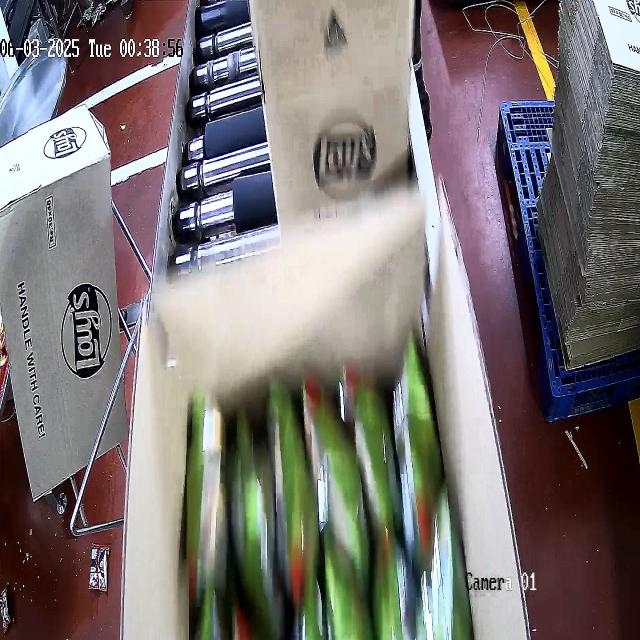YOGURT_HERB: (181, 379, 469, 640)
